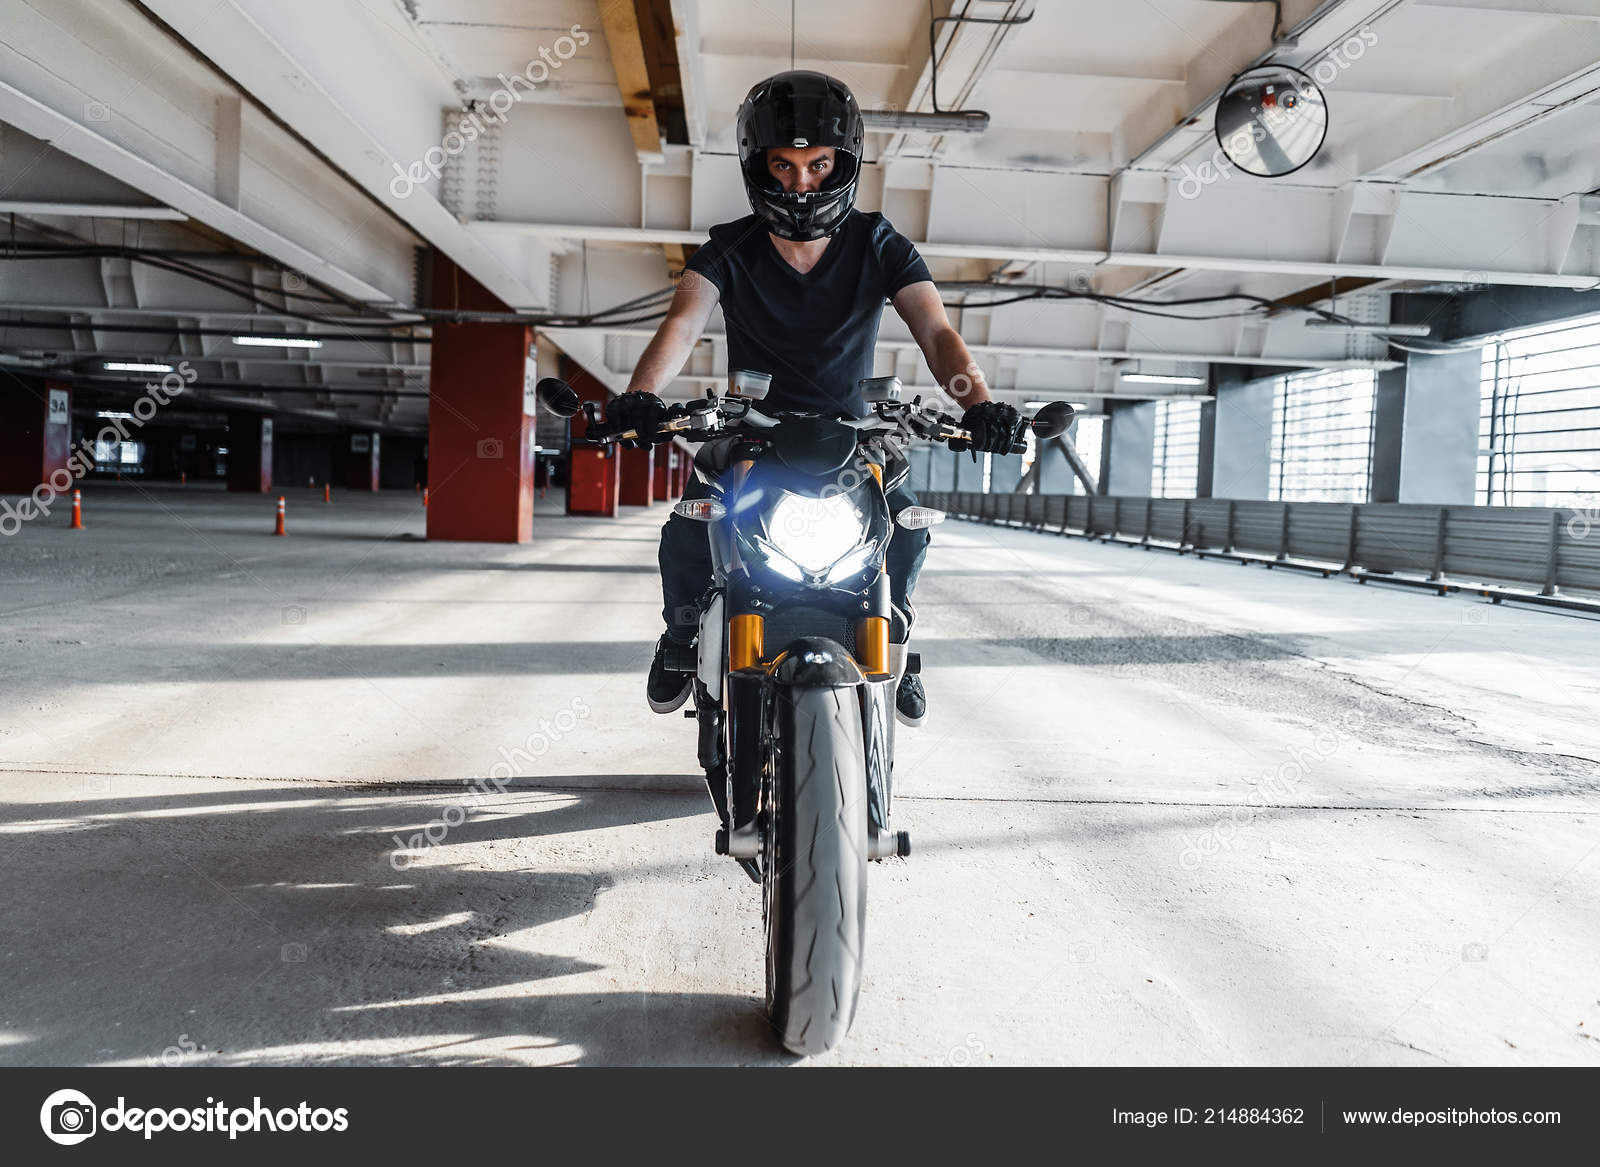bike: (637, 94, 999, 1032)
